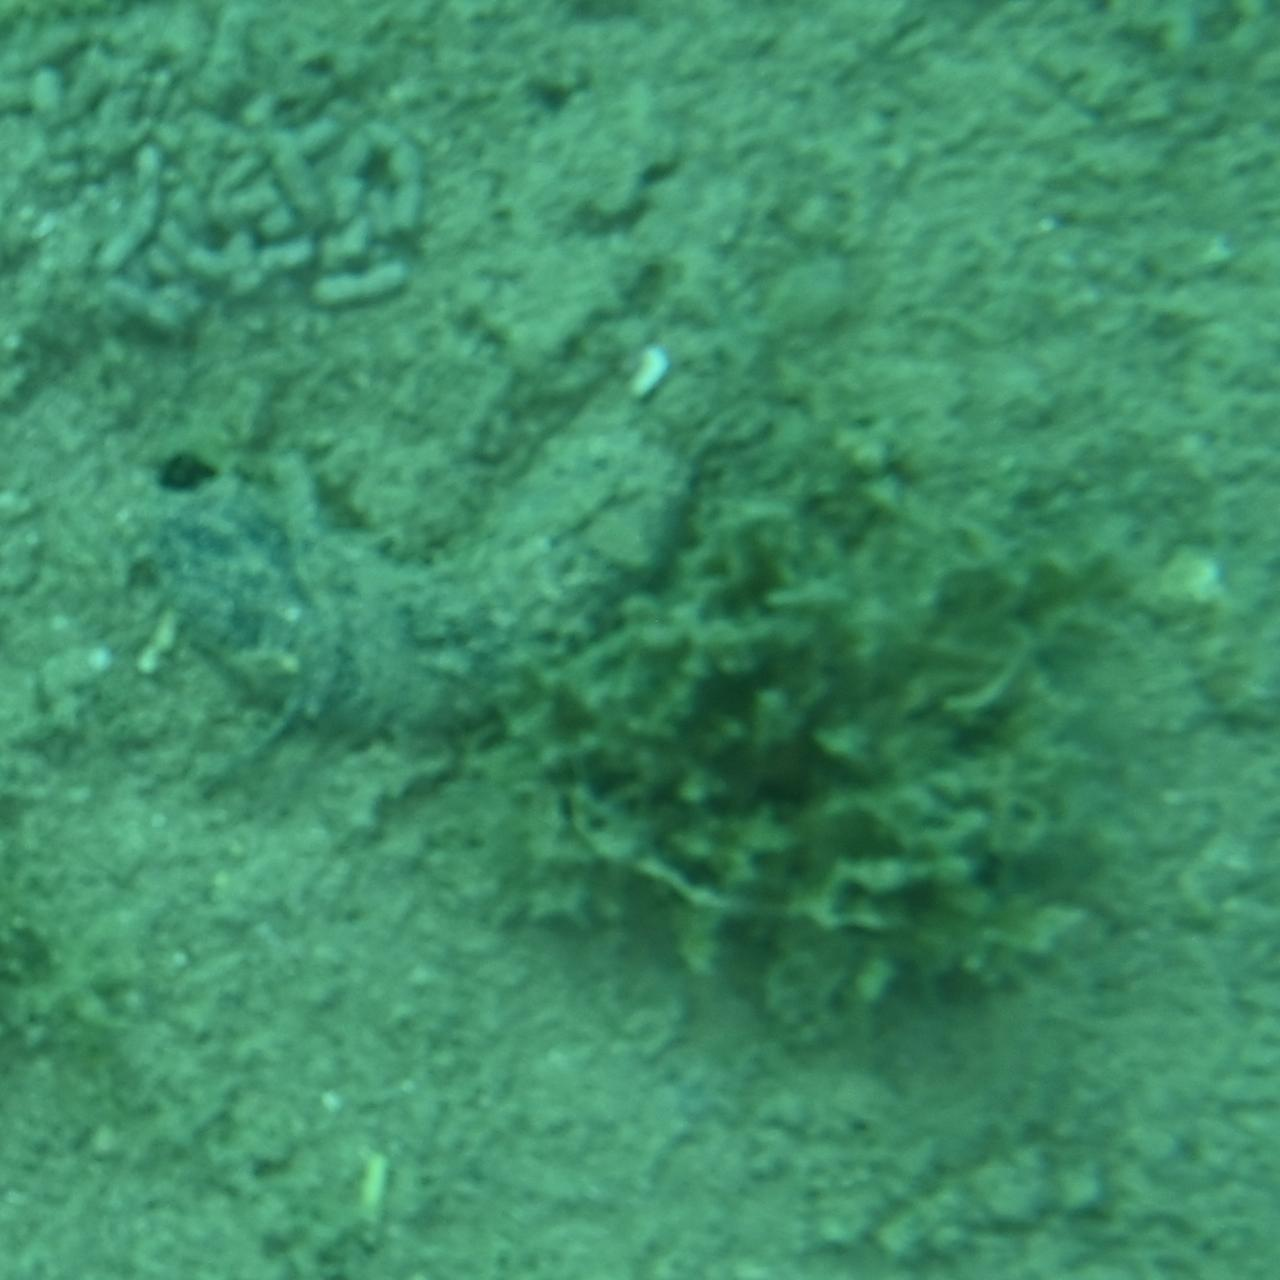Holothuria tubulosa: (128, 311, 770, 757)
Phaeophyceae -cfr Cystoseira-: (504, 437, 1160, 1056)
